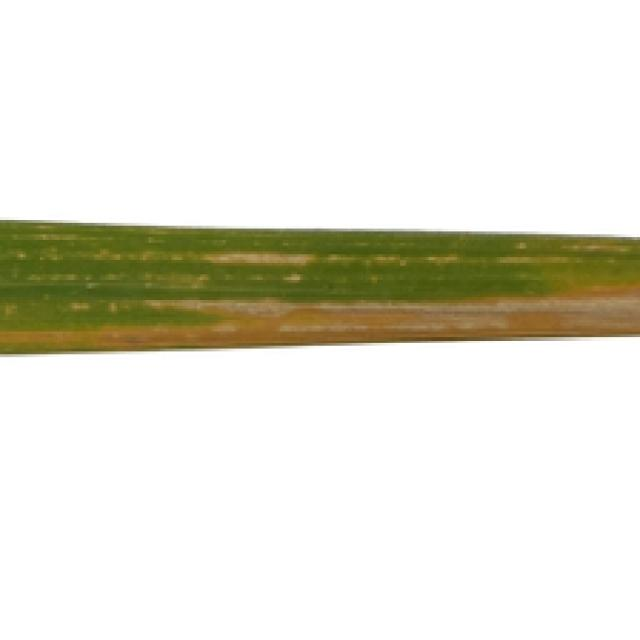Rice___Bacterial_Leaf_Blight: (0, 219, 637, 357)
